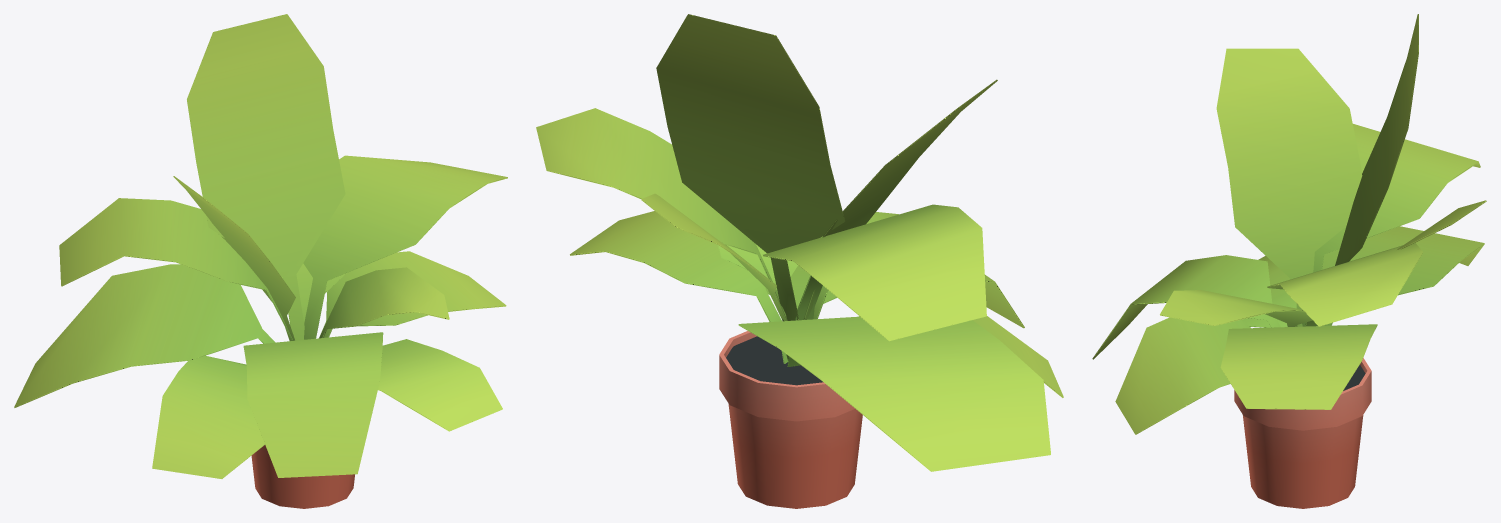
File: Plant.fbx
The picture shows the model from 3 angles, left to right: view 1: azimuth 30°, elevation 25°; view 2: azimuth 150°, elevation 25°; view 3: azimuth 270°, elevation 25°; orthographic projection. The views are drawn at different scales.
Parts seen in each view (by area): view 1: Plant:flower; view 2: Plant:flower; view 3: Plant:flower.
Part boxes in pixels (x1=…): Plant:flower: x1=14, y1=14, x2=507, y2=508; Plant:flower: x1=536, y1=14, x2=1063, y2=508; Plant:flower: x1=1092, y1=14, x2=1486, y2=508.
Size of the model in its own units: 1.23 by 1.08 by 0.8478.
